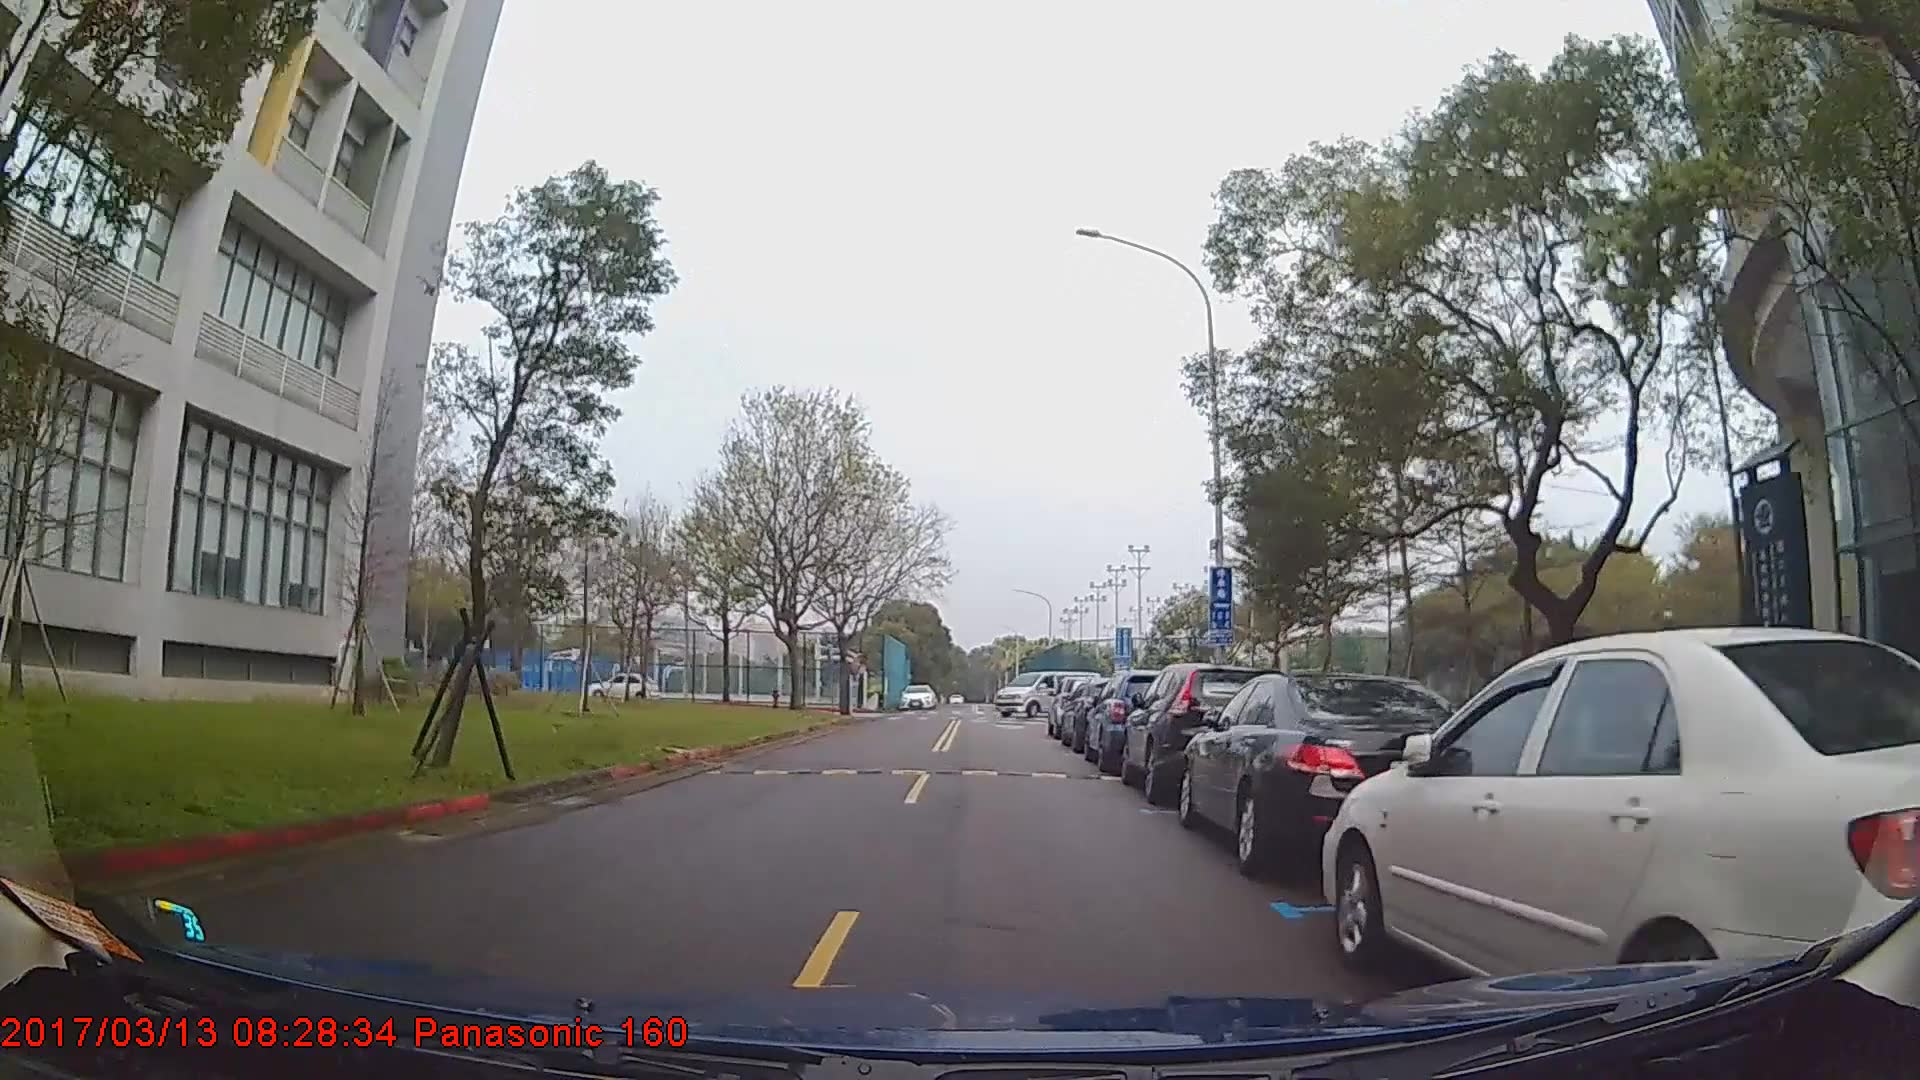vehicle: (1320, 622, 1920, 1029), (1180, 671, 1490, 878), (1117, 662, 1284, 803), (1083, 669, 1182, 774), (993, 669, 1101, 719), (585, 670, 659, 700), (897, 682, 936, 708)
